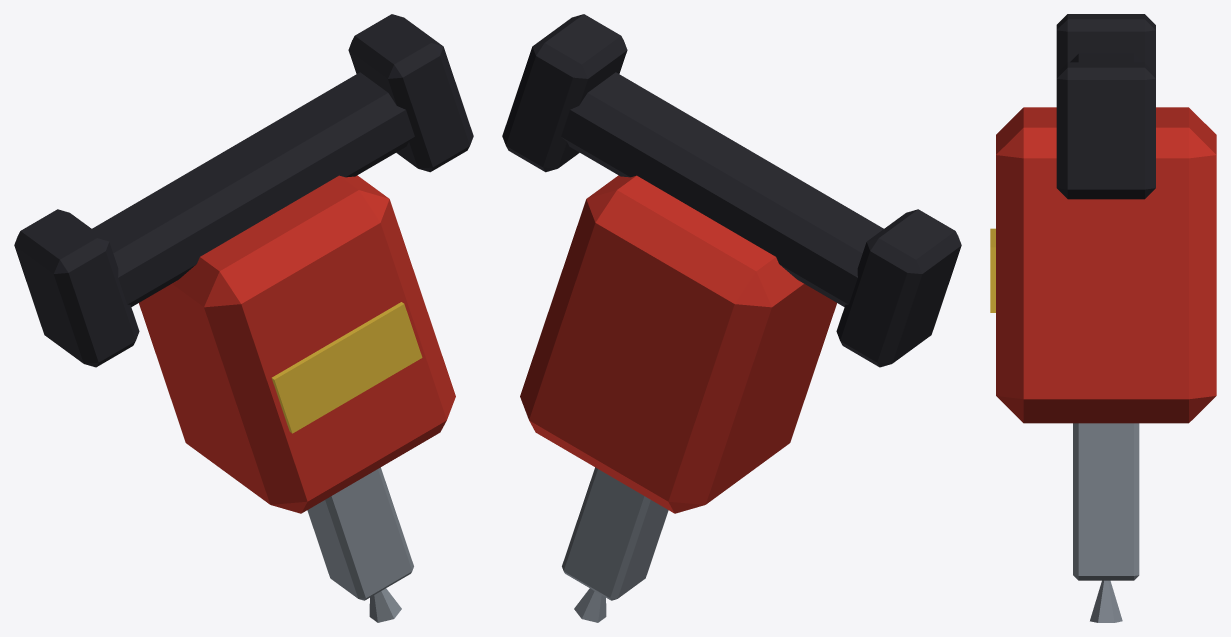
The model's file is pu_jack.glb.
3 renders of one model, left to right at view 1: azimuth 30°, elevation 25°; view 2: azimuth 150°, elevation 25°; view 3: azimuth 270°, elevation 25°, orthographic. The views are drawn at different scales.
Parts seen in each view (by area): view 1: pu_jack; view 2: pu_jack; view 3: pu_jack.
Boxes of the visible parts, x1,y1,x2,y2 form: pu_jack: (14, 14, 473, 622); pu_jack: (502, 14, 961, 622); pu_jack: (990, 14, 1216, 622).
Size of the model in its own units: 0.8607 by 1.14 by 0.4101.
